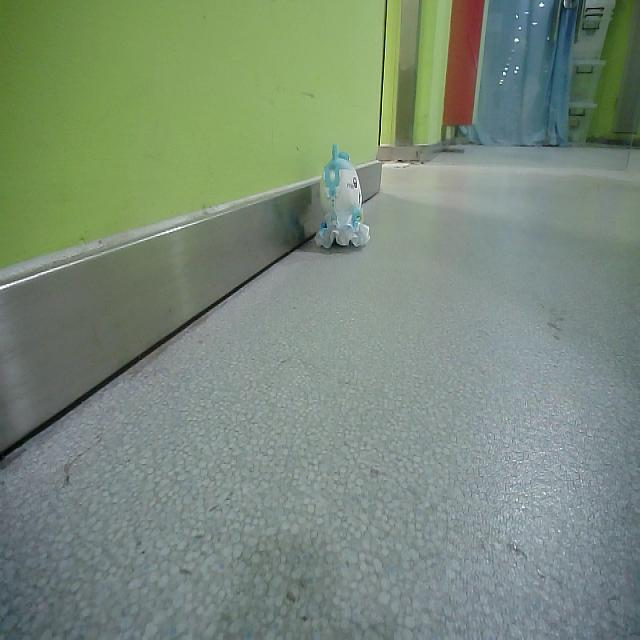xiaoba: (313, 142, 374, 250)
